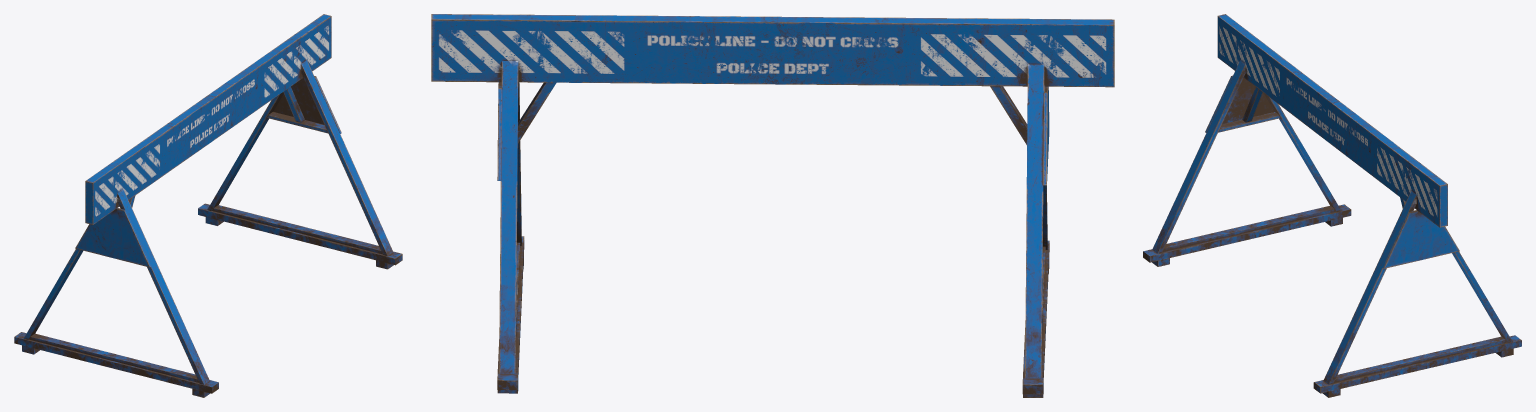
File: tall.glb
3 renders of one model, left to right at view 1: azimuth 30°, elevation 25°; view 2: azimuth 150°, elevation 25°; view 3: azimuth 270°, elevation 25°, orthographic. The views are drawn at different scales.
Visible parts, largest first — view 1: Cube; view 2: Cube; view 3: Cube.
Boxes of the visible parts, bbox=[...] form: Cube: bbox=[14, 14, 402, 397]; Cube: bbox=[431, 14, 1114, 397]; Cube: bbox=[1143, 14, 1521, 397].
Bounding box in the file's own units: 9.41 × 5 × 8.23.
1 material, 1 textured.
